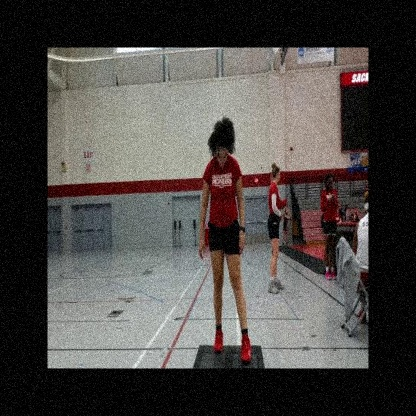lateral_flexion_right: (197, 113, 254, 367)
stance_width_normal: (197, 149, 254, 368)
